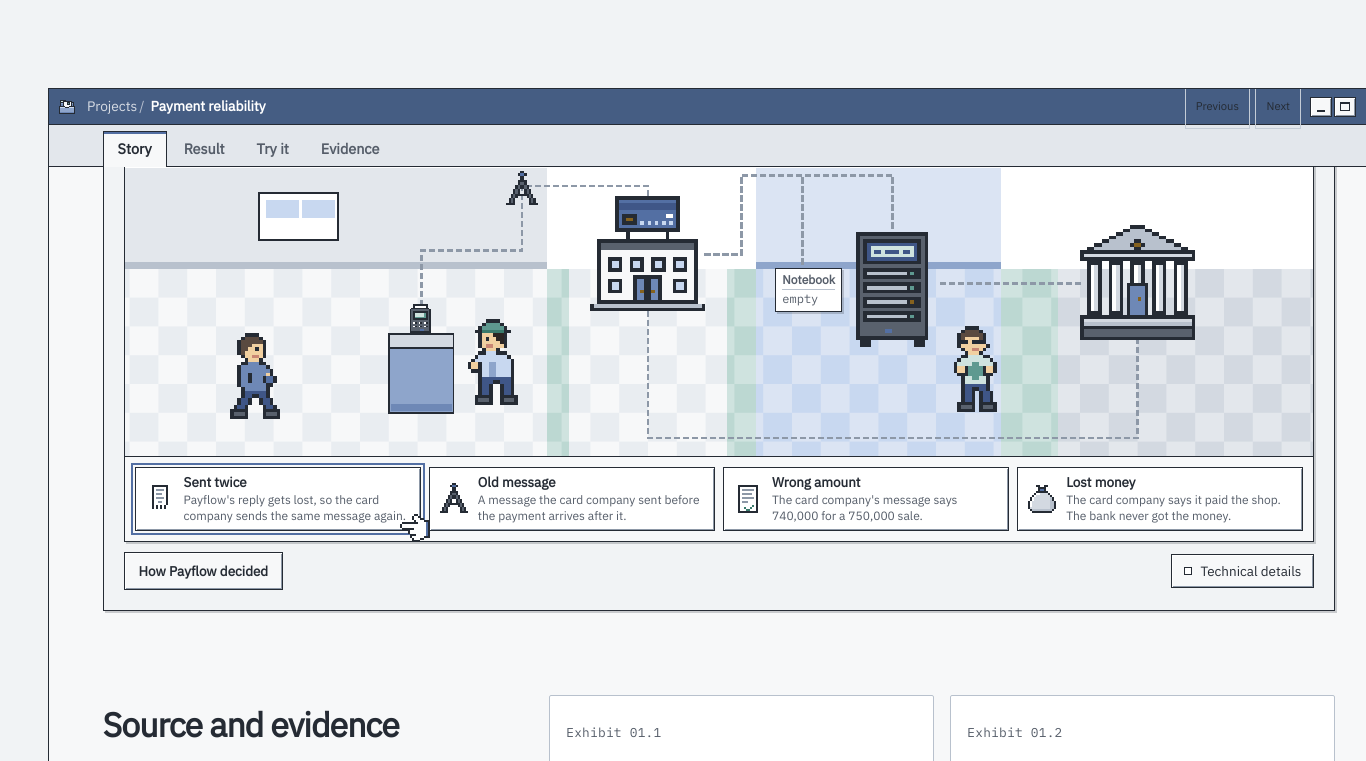
Test: DebuggerWorkspace › replays a condition, opens and closes evidence, and switches projects
The width and height of the screenshot is (1366, 761).
Later steps or results of the test are not shown.
(page scrolled)
Click the button "Old message".
click(572, 499)  # box [429,467,715,531]
Wait 900 ms
(page scrolled)
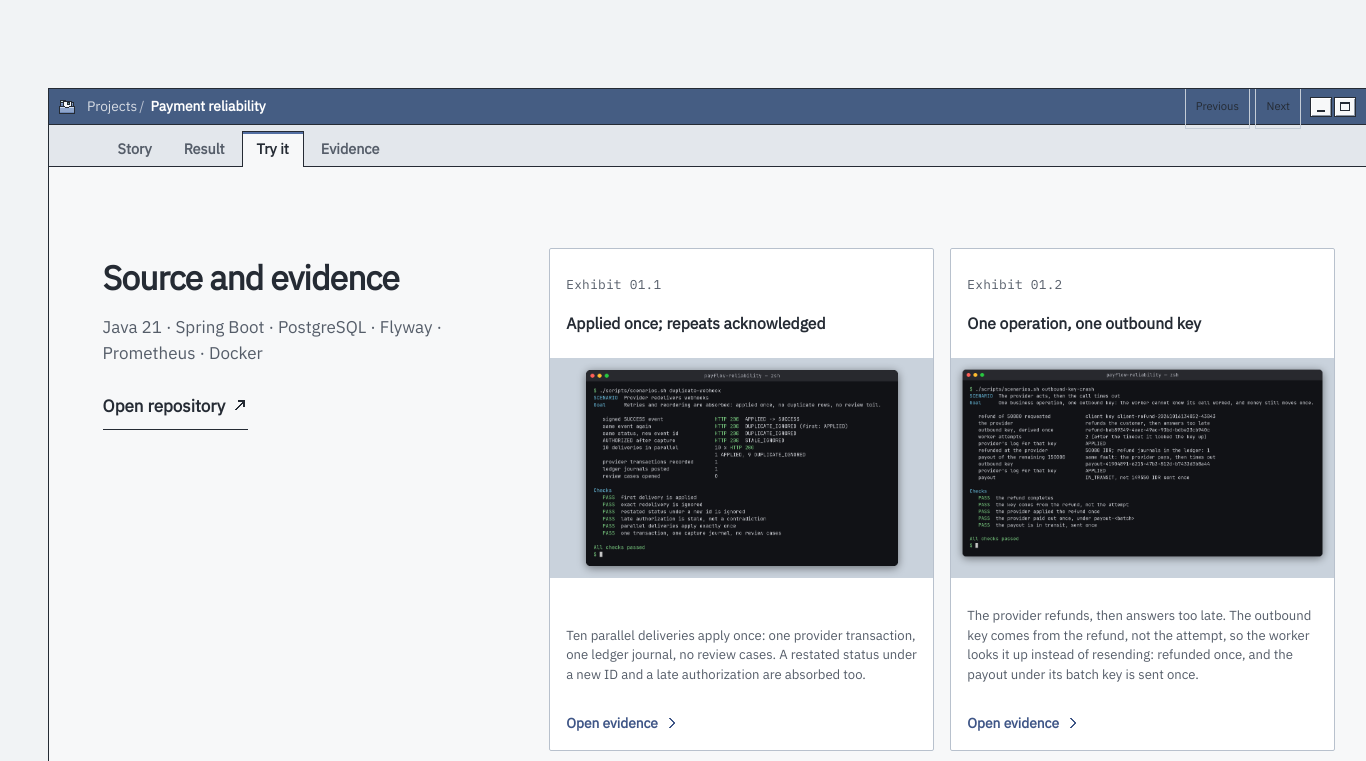
Expected: the button "Open evidence" is shown, [549,248,934,751]
